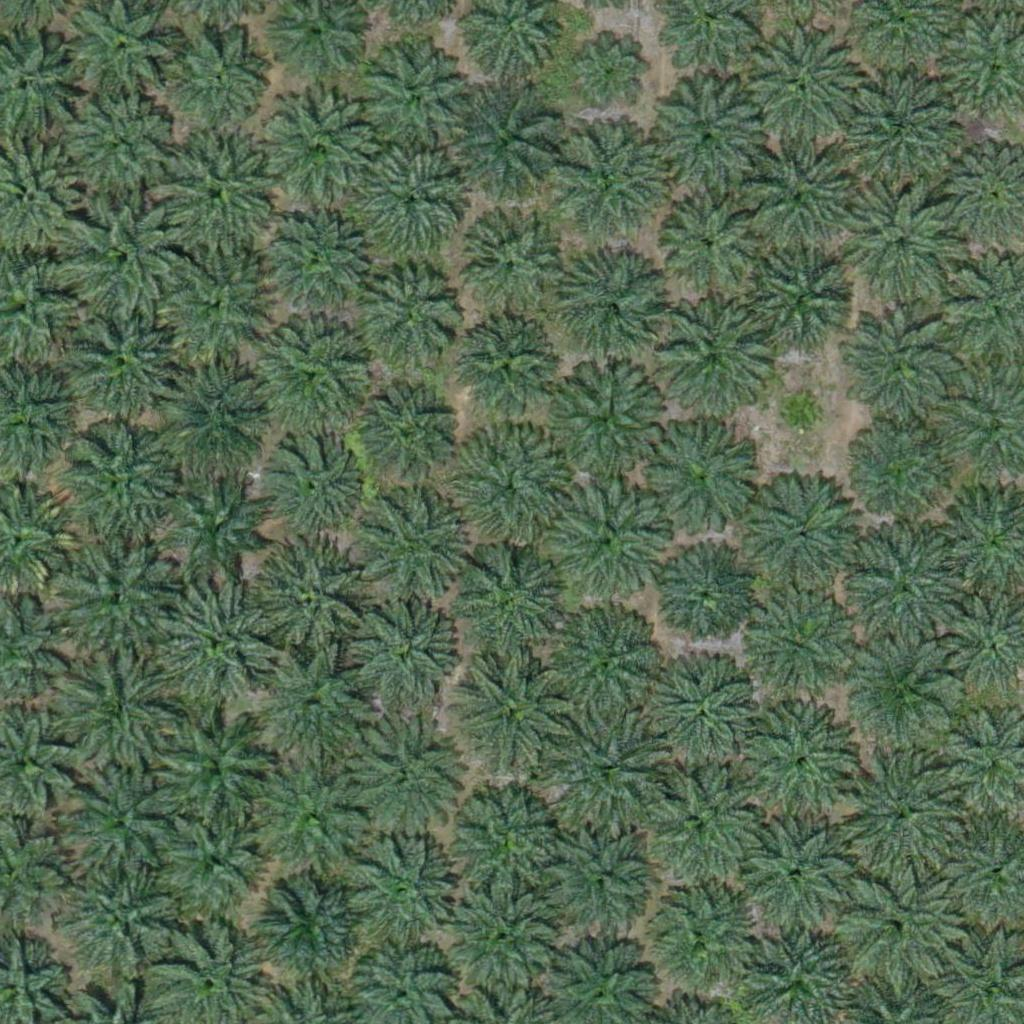Kelapa_Sawit: (261, 87, 386, 213), (546, 120, 671, 246), (647, 77, 772, 203), (737, 22, 862, 148), (844, 529, 969, 655), (737, 139, 862, 265), (543, 603, 668, 729), (450, 422, 575, 548), (449, 544, 574, 670), (449, 656, 574, 782), (256, 198, 381, 324), (244, 535, 369, 661), (252, 646, 377, 772), (148, 581, 273, 707), (152, 351, 277, 477), (148, 244, 273, 370), (155, 136, 280, 262), (60, 194, 185, 320), (56, 297, 181, 423), (56, 416, 181, 542), (54, 536, 179, 662), (44, 651, 169, 777), (60, 759, 185, 885), (58, 853, 183, 979), (150, 698, 275, 824), (154, 797, 279, 923), (242, 753, 367, 879), (336, 835, 461, 961), (339, 712, 464, 838), (446, 875, 571, 1001), (627, 765, 752, 891), (837, 750, 962, 876), (833, 865, 958, 991), (438, 86, 563, 211), (541, 475, 666, 600), (543, 358, 668, 483), (350, 138, 475, 263), (446, 781, 571, 906), (632, 876, 757, 1001), (68, 89, 181, 202), (846, 637, 959, 750), (740, 591, 853, 704), (743, 473, 856, 586), (745, 251, 858, 364), (351, 266, 464, 379), (257, 873, 370, 986), (542, 825, 655, 938), (555, 710, 668, 823), (843, 86, 955, 200), (847, 187, 959, 301), (845, 312, 957, 426), (647, 414, 759, 527), (657, 660, 769, 773), (553, 253, 665, 366), (455, 208, 567, 321), (343, 596, 455, 709), (359, 490, 471, 603), (256, 325, 368, 438), (737, 819, 849, 932), (742, 709, 854, 822), (165, 29, 265, 130), (850, 419, 950, 520), (657, 191, 757, 292), (664, 309, 764, 410), (657, 546, 757, 647), (455, 318, 555, 419), (359, 384, 459, 485), (264, 434, 364, 535), (166, 475, 266, 575), (365, 42, 464, 143), (575, 30, 650, 105), (776, 390, 826, 440)
